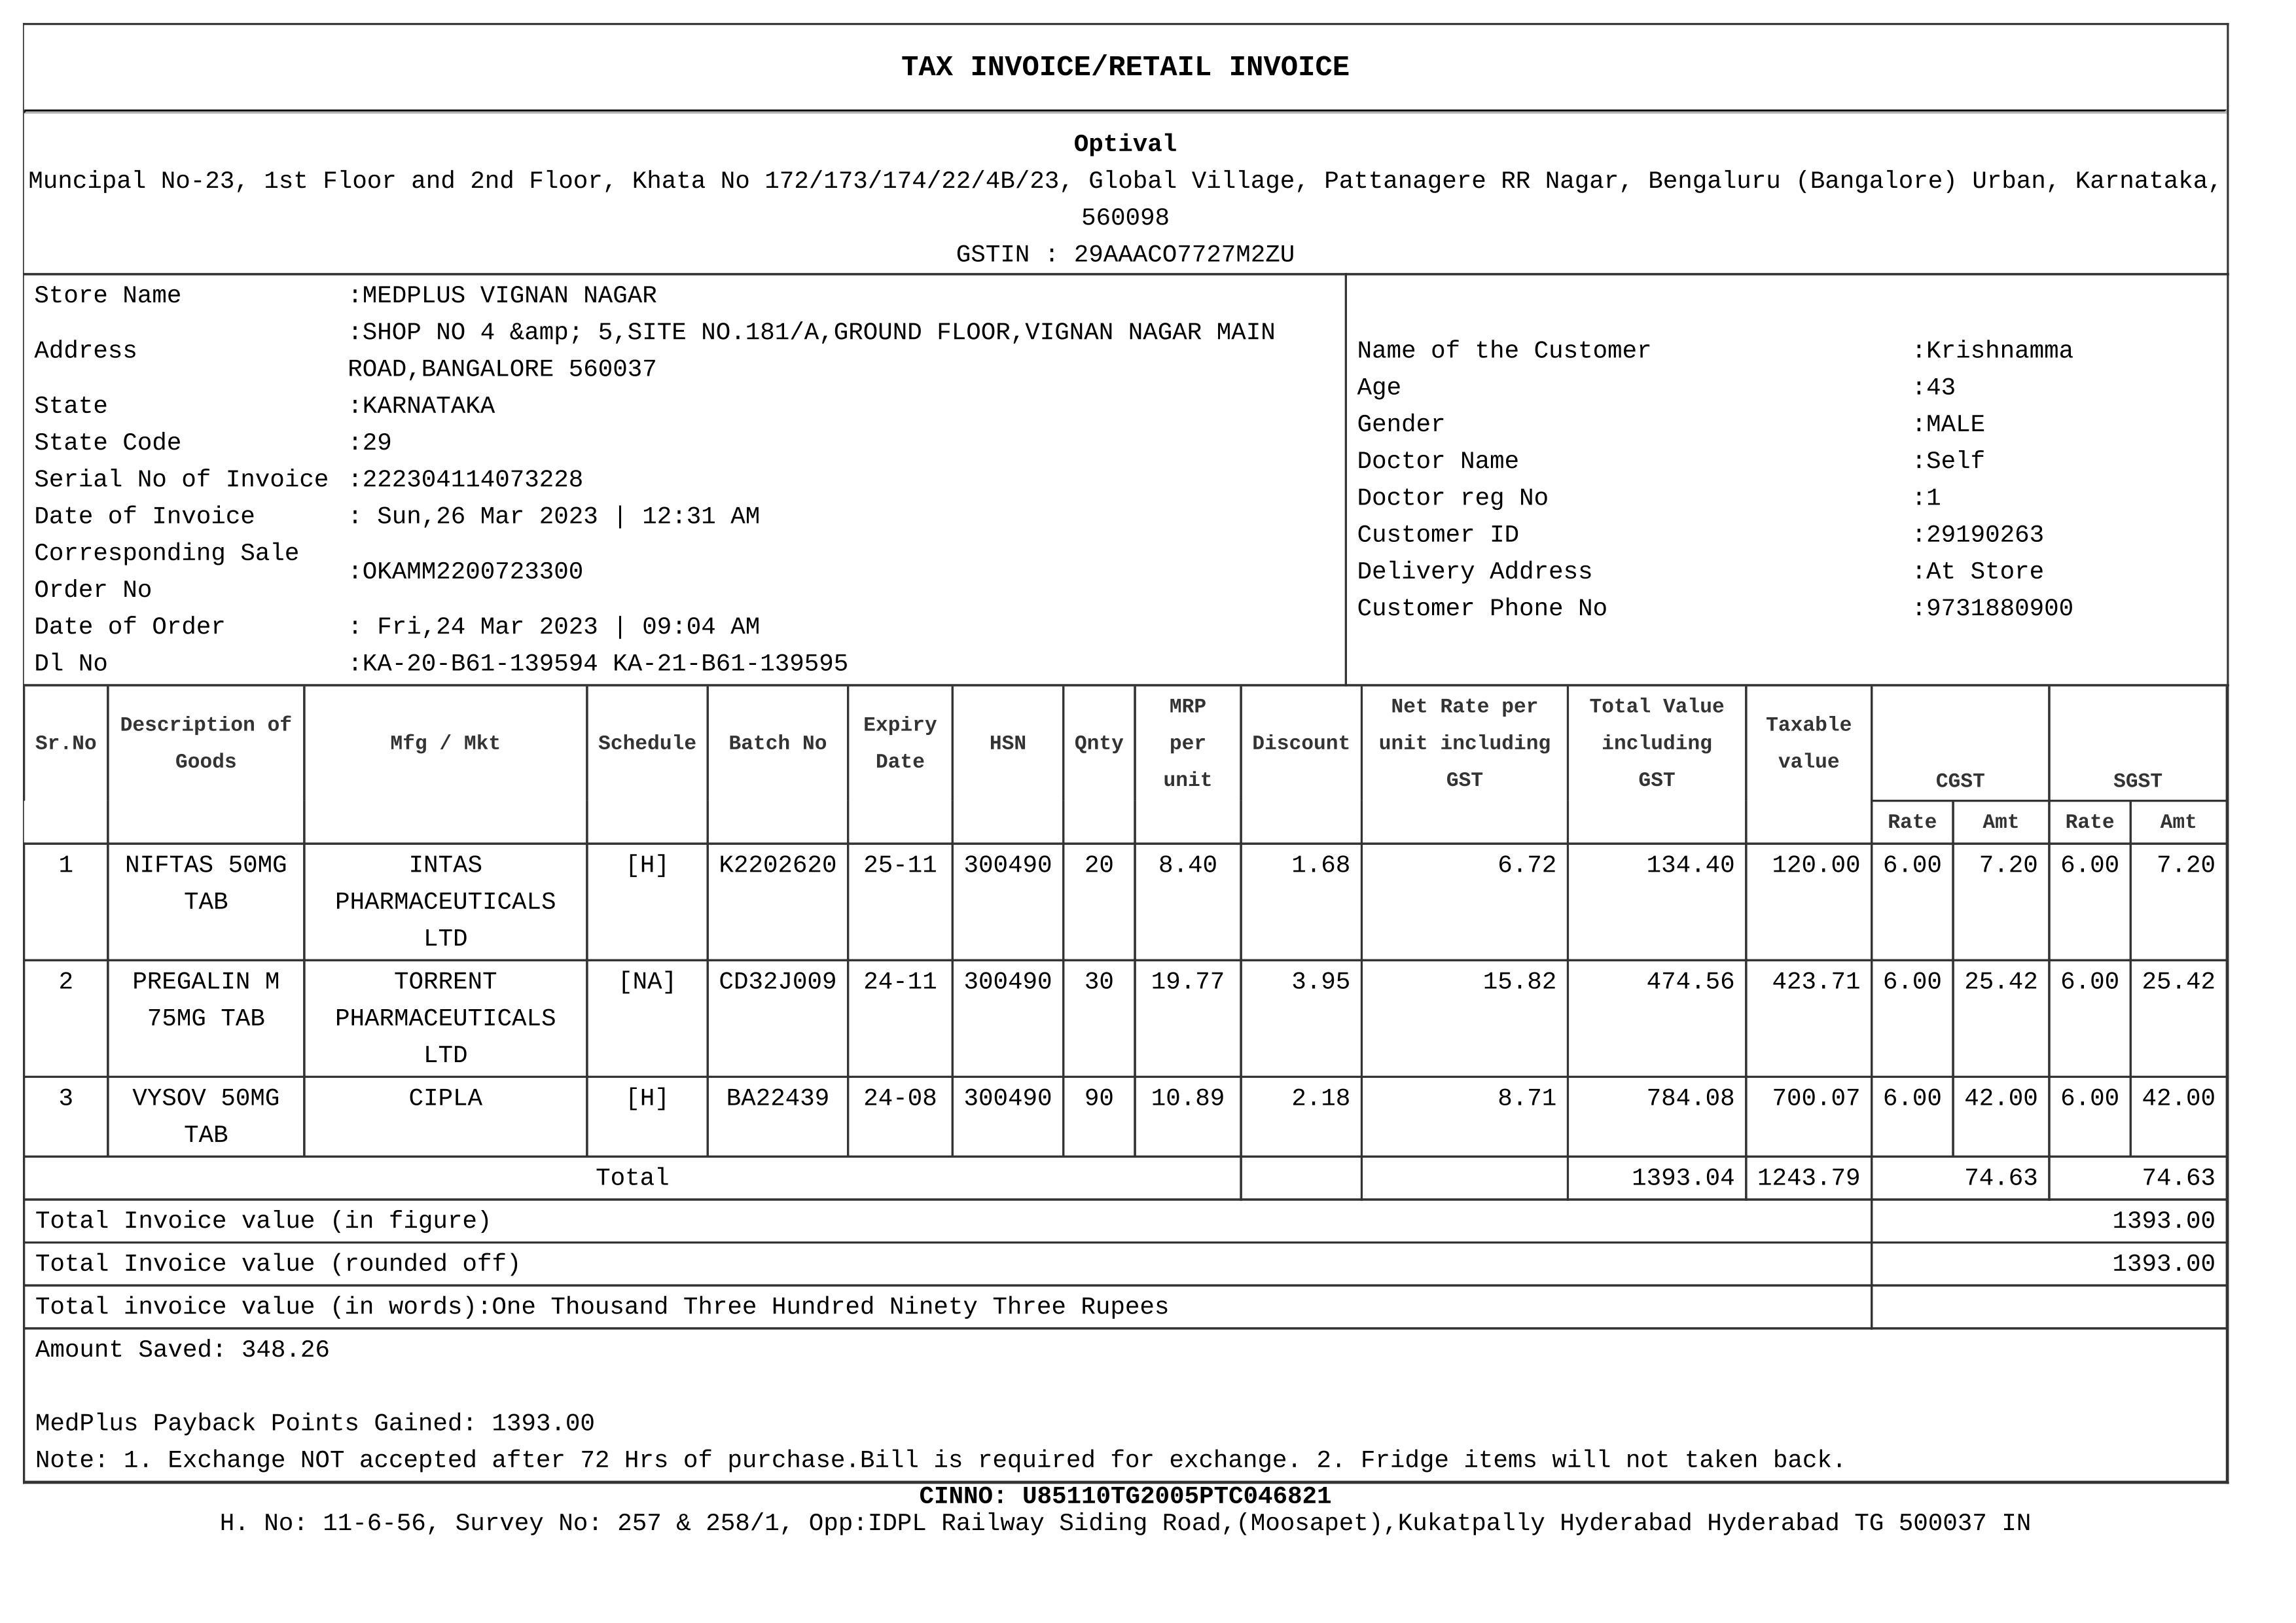InvoiceDate: (369, 502, 610, 536)
InvoiceNumber: (358, 460, 599, 501)
TotalAmount: (2099, 1242, 2235, 1289)
